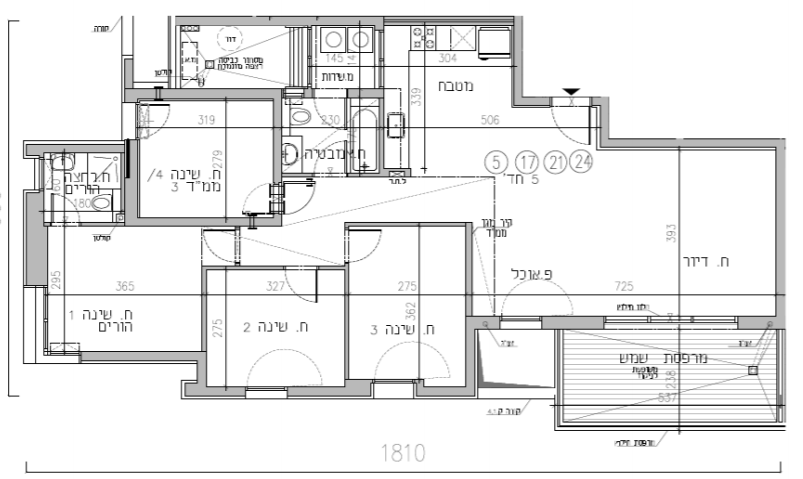door: (351, 228, 391, 264), (195, 226, 235, 262), (280, 273, 320, 309)
wall: (776, 139, 787, 293), (82, 351, 206, 360), (123, 219, 253, 227)
window: (243, 384, 287, 391), (371, 376, 415, 383)
